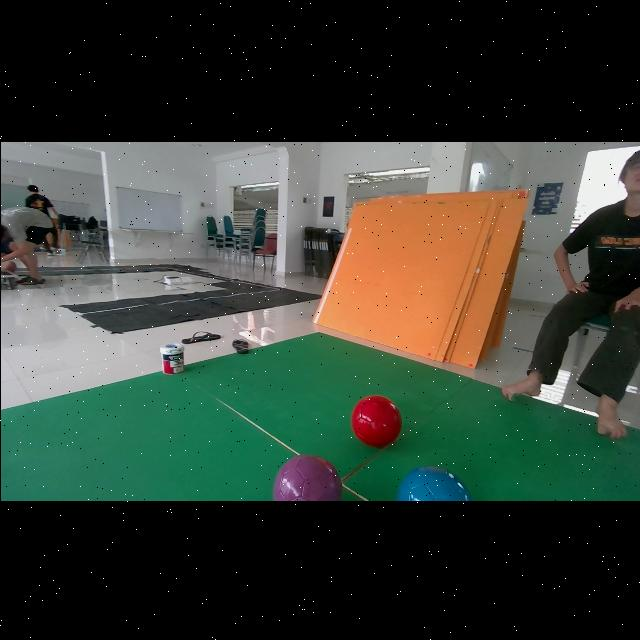B: (397, 465, 472, 499)
P: (272, 453, 341, 499)
R: (350, 393, 401, 445)
